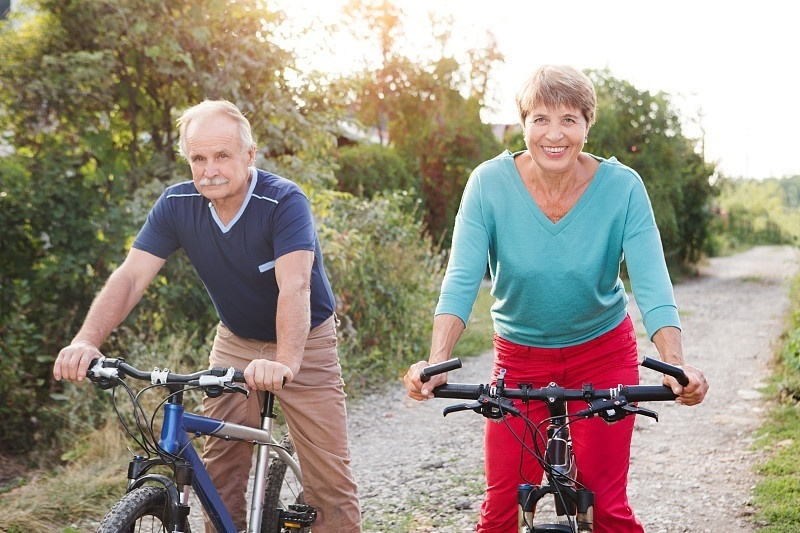non-vehicle: (78, 356, 313, 526), (450, 377, 686, 528)
